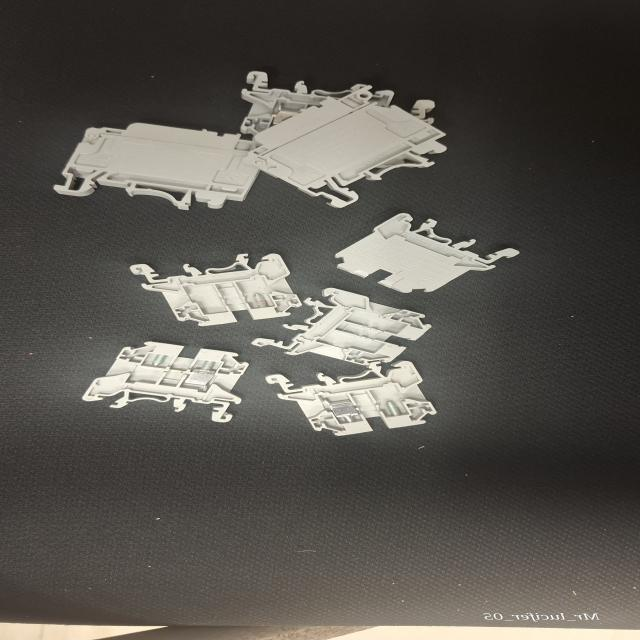Inverted: (336, 210, 534, 295)
Reject: (76, 336, 255, 424), (250, 286, 433, 368), (265, 360, 440, 440), (128, 248, 300, 328)
